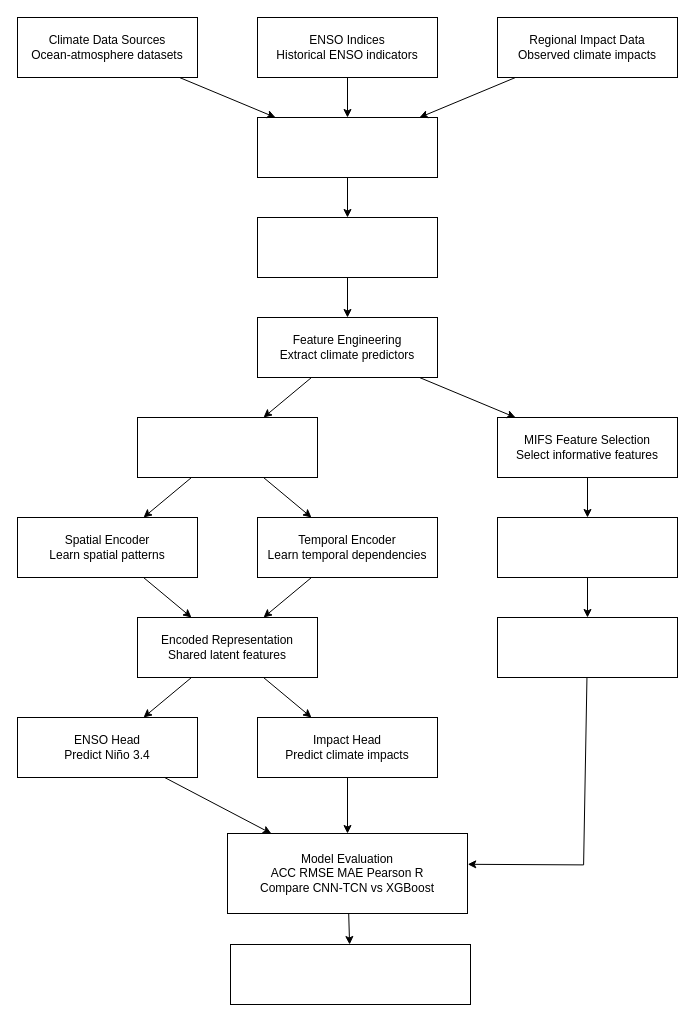
Some shapes in this 695 by 1022 pixel diagram are drawn without their labels. Each missing label, with the centre of its shape:
"CNN-TCN Model Spatiotemporal learning" goes at point 227,447.
"Data Ingestion Merge & align all datasets" goes at point 347,147.
"Data Preprocessing Clean, normalize & fill gaps" goes at point 347,247.
"Final Forecast Output ENSO + Temperature + Rainfall" goes at point 350,974.
"XGBoost Baseline Traditional ML benchmark" goes at point 587,547.
"XGBoost Forecast Baseline prediction output" goes at point 587,647.
